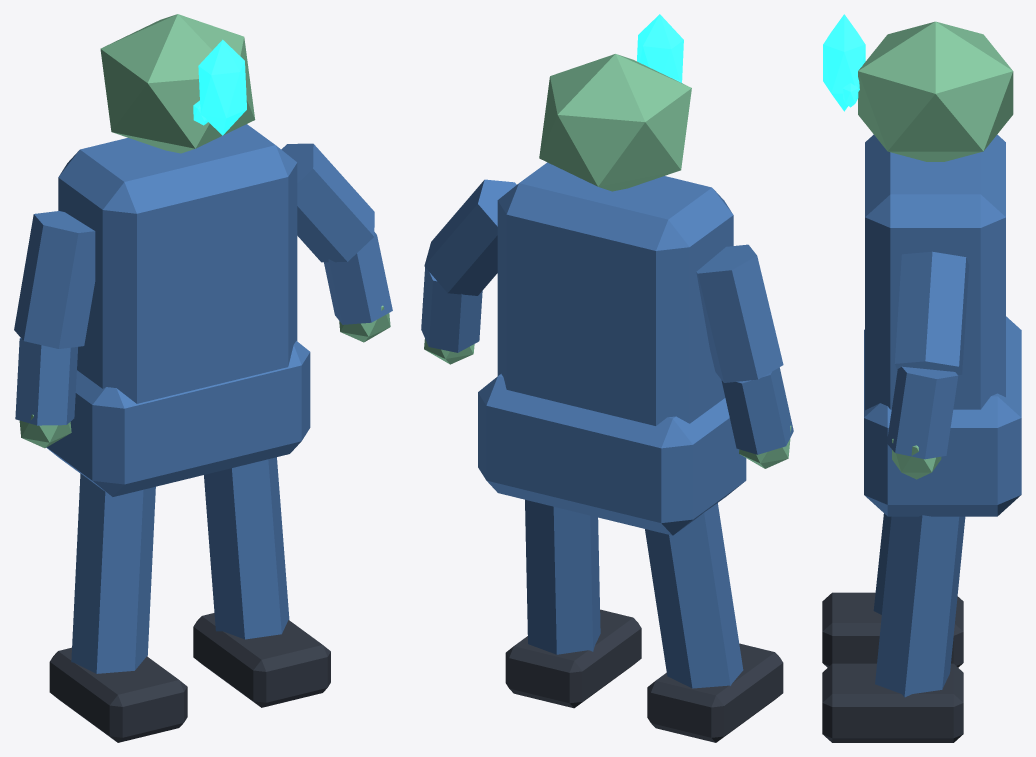
File: npcs_015_seed11.glb
The picture shows the model from 3 angles, left to right: view 1: azimuth 30°, elevation 25°; view 2: azimuth 150°, elevation 25°; view 3: azimuth 270°, elevation 25°; orthographic projection. The views are drawn at different scales.
Visible parts, largest first — view 1: npcs_015_seed11; view 2: npcs_015_seed11; view 3: npcs_015_seed11.
Part boxes in pixels (x1,y1,x2,y2): npcs_015_seed11: (14,14,392,742); npcs_015_seed11: (421,14,793,742); npcs_015_seed11: (822,14,1021,742).
Size of the model in its own units: 0.9166 by 1.59 by 0.4206.
